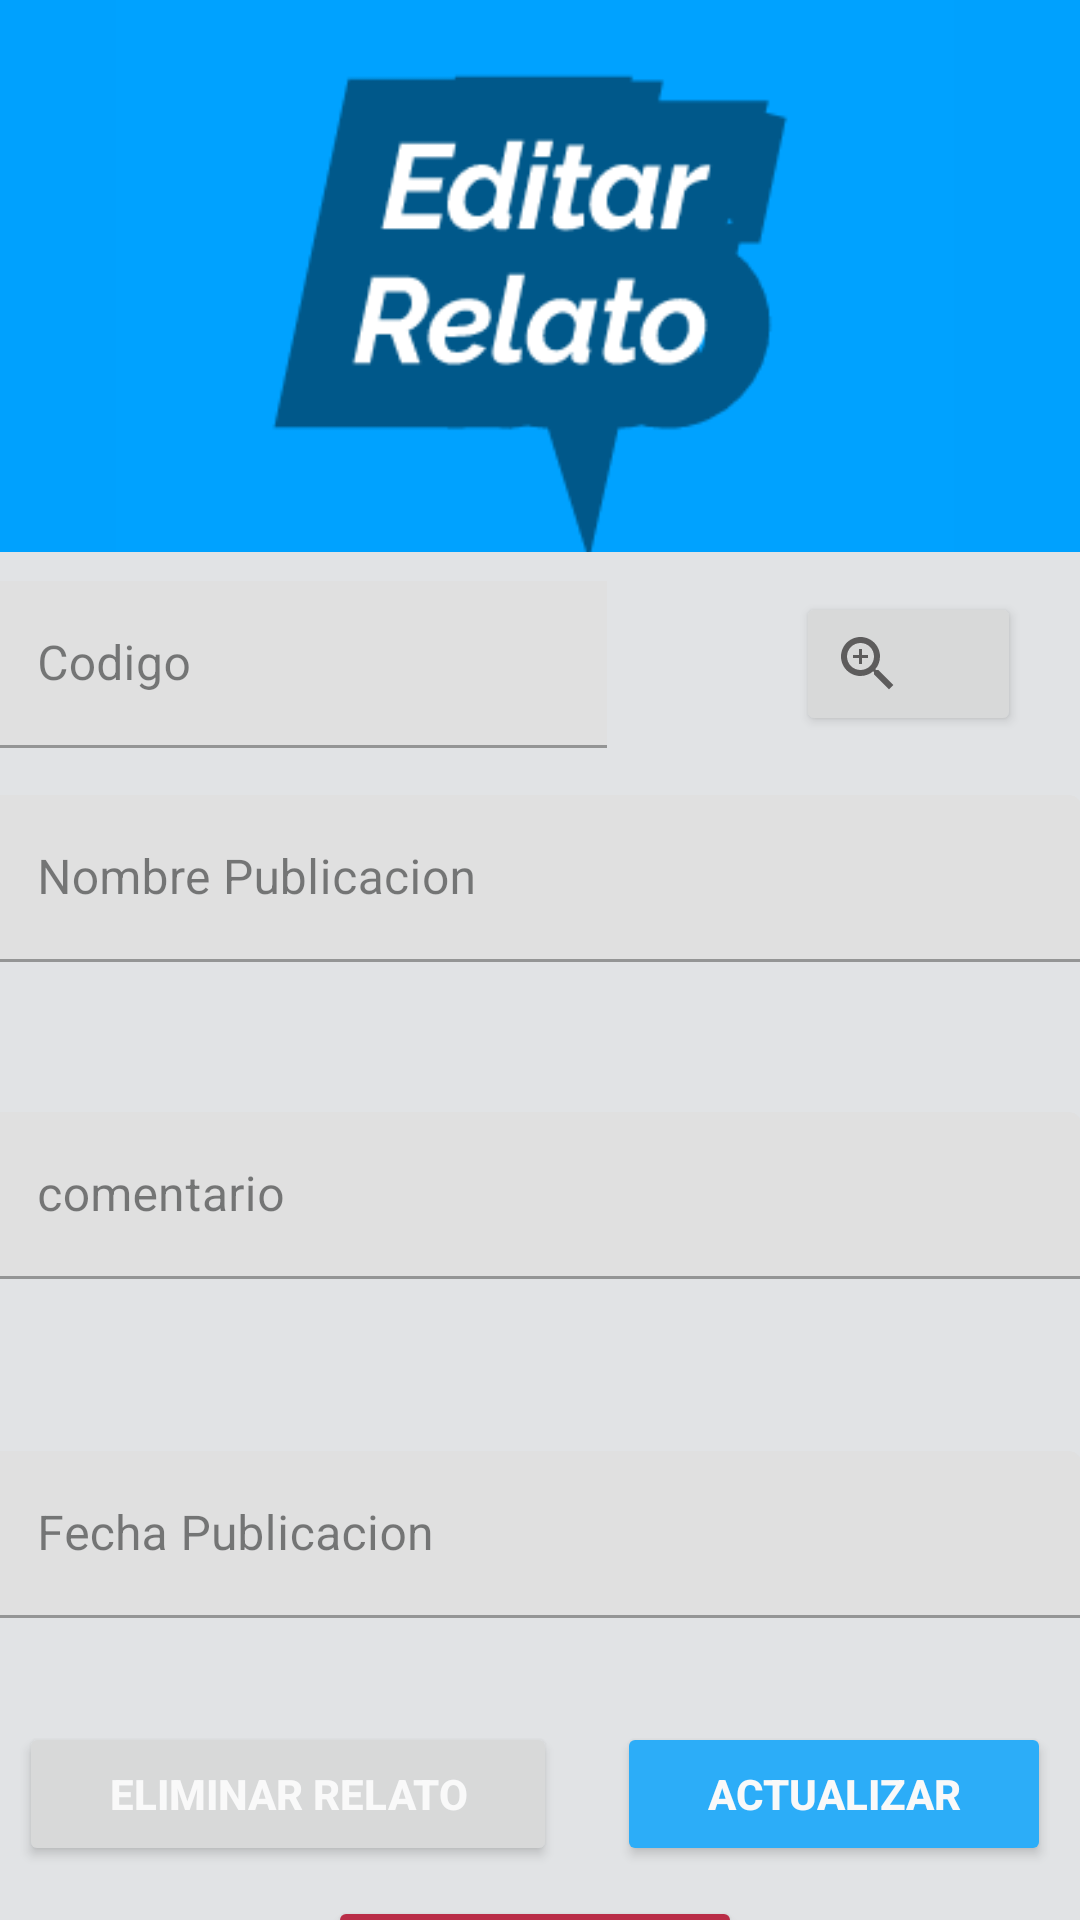

Point at icon controls on the screen. Image size 1080px×1920px, points as (x=x, y=y).
zoom: (x=909, y=666)
